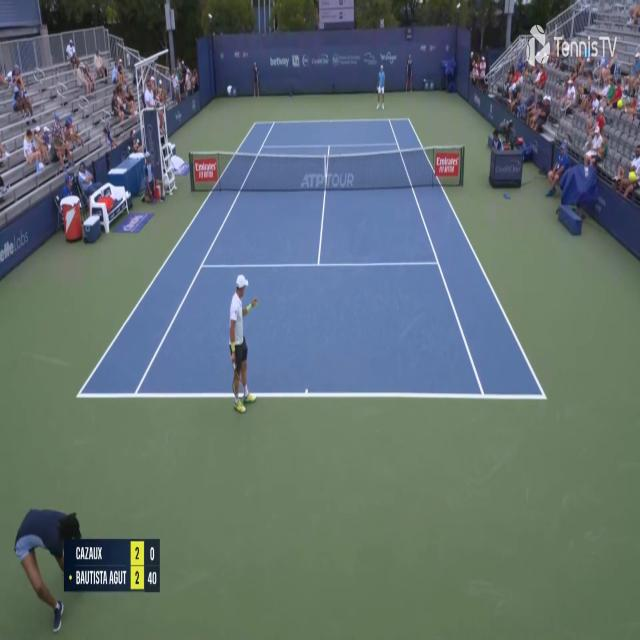tennis-player: (227, 270, 258, 416), (374, 61, 387, 110)
